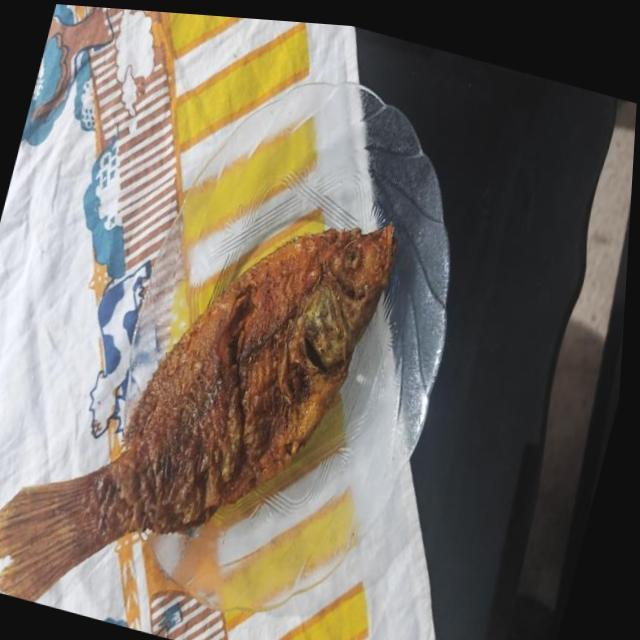ikan_mujair: (0, 225, 397, 600)
